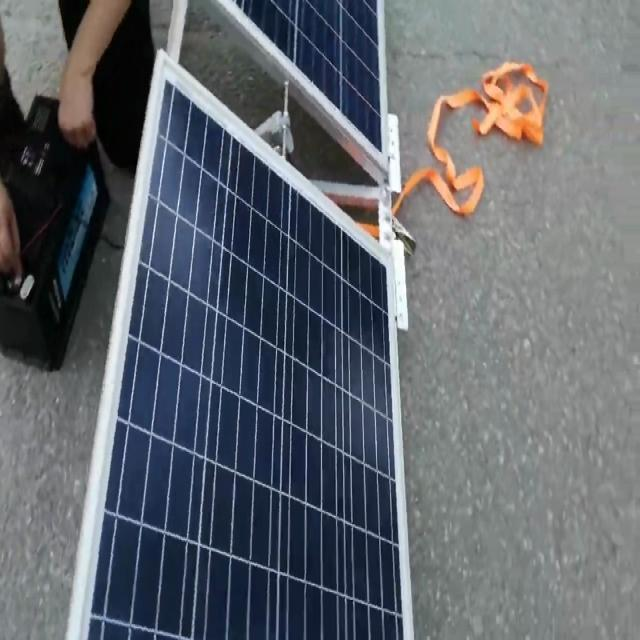Normal Solar Panel: (68, 52, 413, 640), (236, 0, 382, 149)
